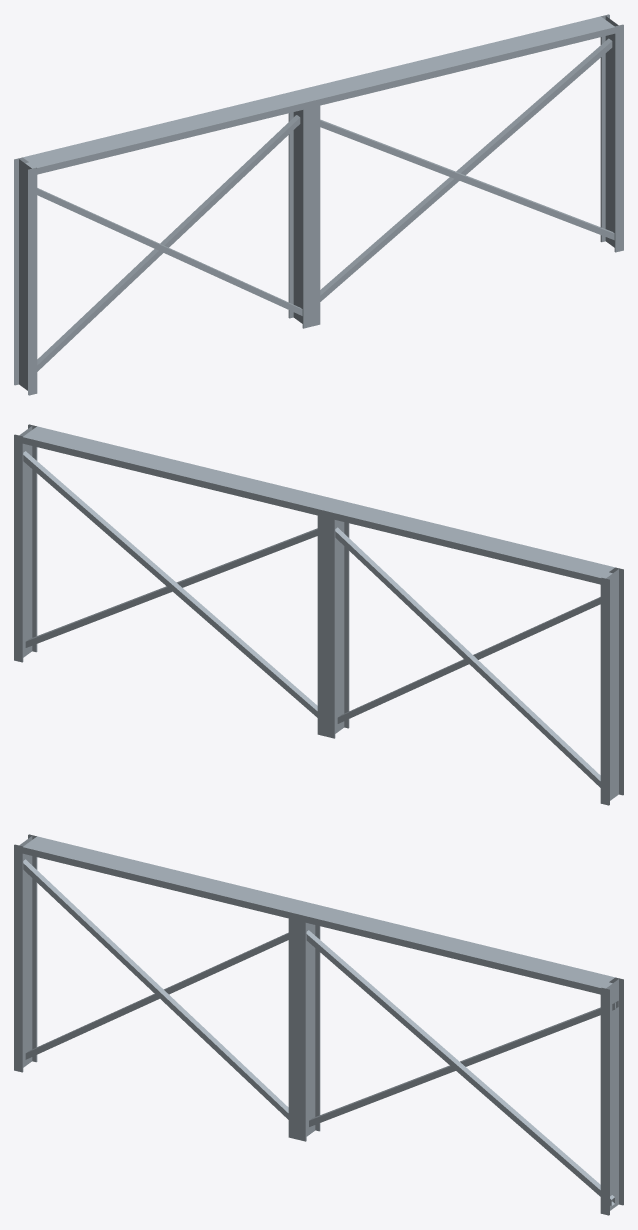
Rendered from SM06_Building_Structure_Wall_Mid_01_Corner.fbx.
3 views of the same model, one above another, from view 1: azimuth 30°, elevation 25°; view 2: azimuth 150°, elevation 25°; view 3: azimuth 330°, elevation 25° (orthographic).
Visible parts, largest first — view 1: SM06_Building_Structure_Wall_Mid_01_Corner; view 2: SM06_Building_Structure_Wall_Mid_01_Corner; view 3: SM06_Building_Structure_Wall_Mid_01_Corner.
Boxes of the visible parts, box(x1,y1,x2,y2) form: SM06_Building_Structure_Wall_Mid_01_Corner: box(14, 14, 623, 395); SM06_Building_Structure_Wall_Mid_01_Corner: box(14, 424, 623, 805); SM06_Building_Structure_Wall_Mid_01_Corner: box(14, 834, 623, 1215).
Bounding box in the file's own units: 13.83 × 5.01 × 0.59.
